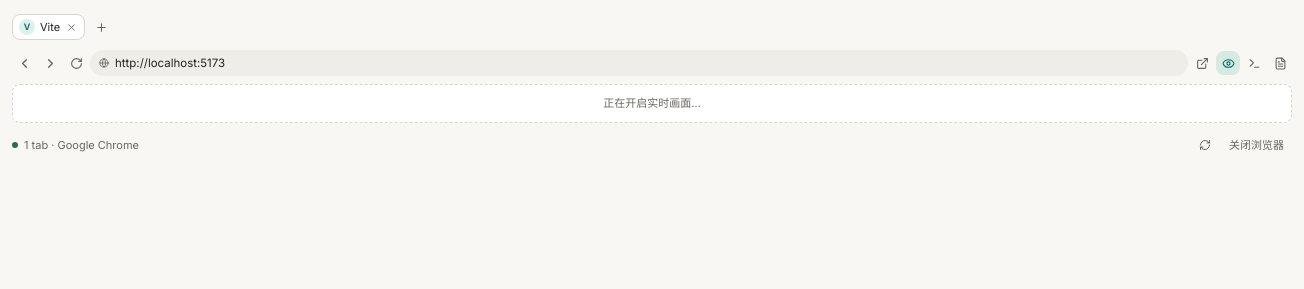
Test case: BrowserPanel › reads and shows the active tab page text snapshot on demand
Check: the text "Vite" is shown, box [40,19,60,35]
Click the button named "页面文本". click: [1280, 63]
box: [1268,51,1292,75]
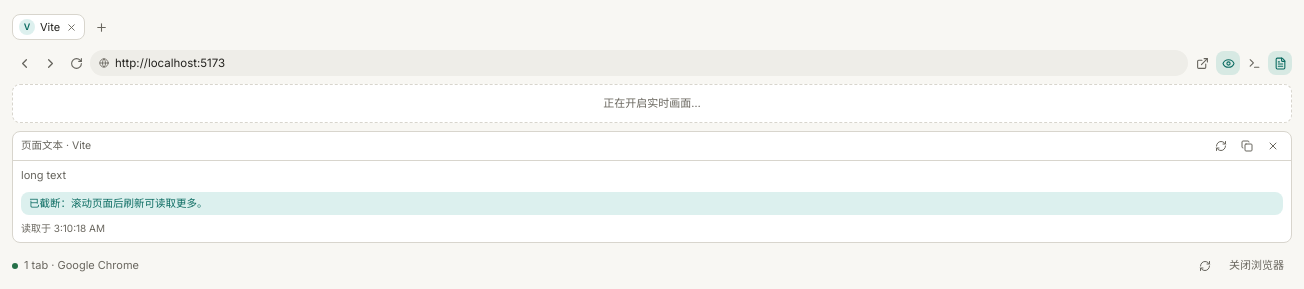
Check: the text "Welcome to Vite. Fastest frontend tool." is shown, box [21,168,66,182]
Check: the button named "复制页面文本" is enabled, box [1237,136,1257,156]
Check: the button named "收起页面文本" is shown, box [1263,136,1283,156]
